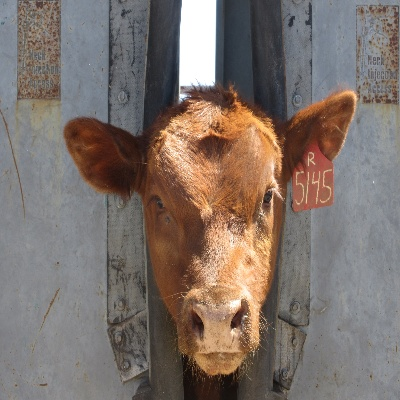fidget_spinner: (181, 286, 254, 369)
